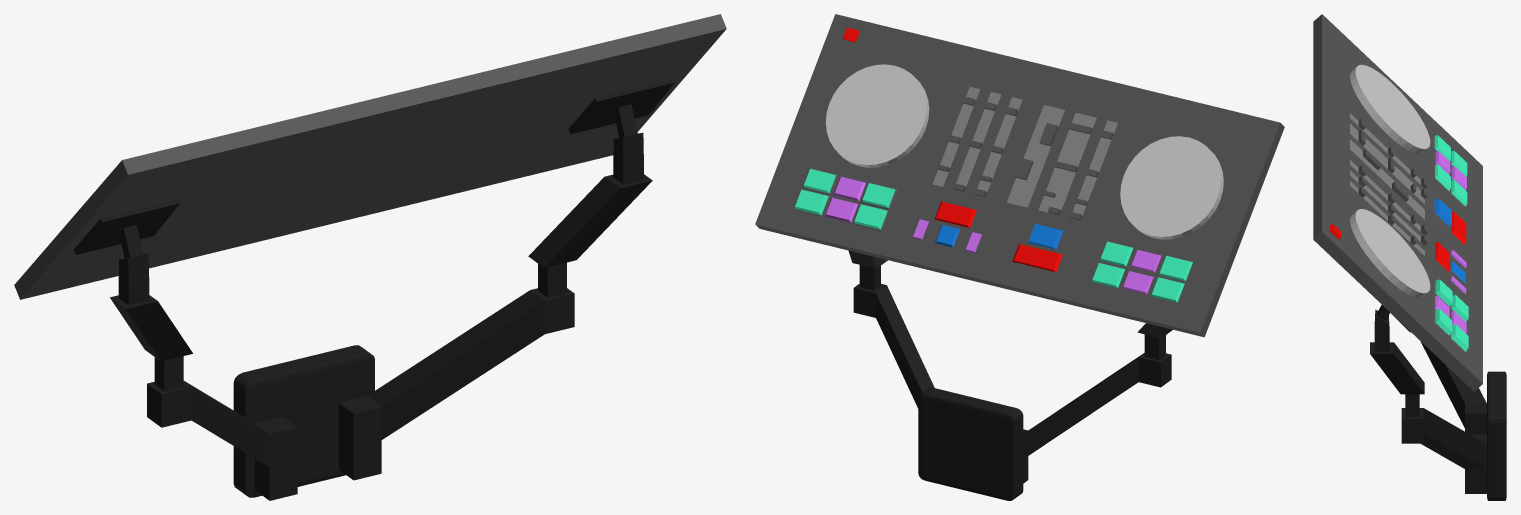
3 renders of one model, left to right at view 1: azimuth 30°, elevation 25°; view 2: azimuth 150°, elevation 25°; view 3: azimuth 270°, elevation 25°, orthographic. The views are drawn at different scales.
Visible parts, largest first — view 1: 0_Deck, 0_DjArms; view 2: 0_Deck, 0_DjArms; view 3: 0_Deck, 0_DjArms.
Part boxes in pixels (bbox=[...]): 0_Deck: bbox=[14, 14, 726, 299]; 0_DjArms: bbox=[74, 79, 674, 500]; 0_Deck: bbox=[755, 14, 1284, 337]; 0_DjArms: bbox=[848, 250, 1172, 500]; 0_Deck: bbox=[1313, 14, 1482, 391]; 0_DjArms: bbox=[1370, 305, 1506, 500].
Size of the model in its own units: 267 by 204 by 100.
